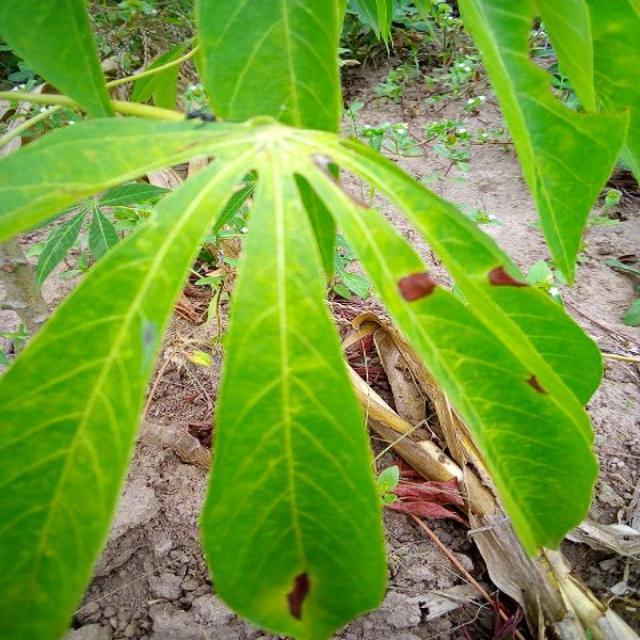cassava leaf: (1, 1, 606, 638), (198, 147, 388, 638)
